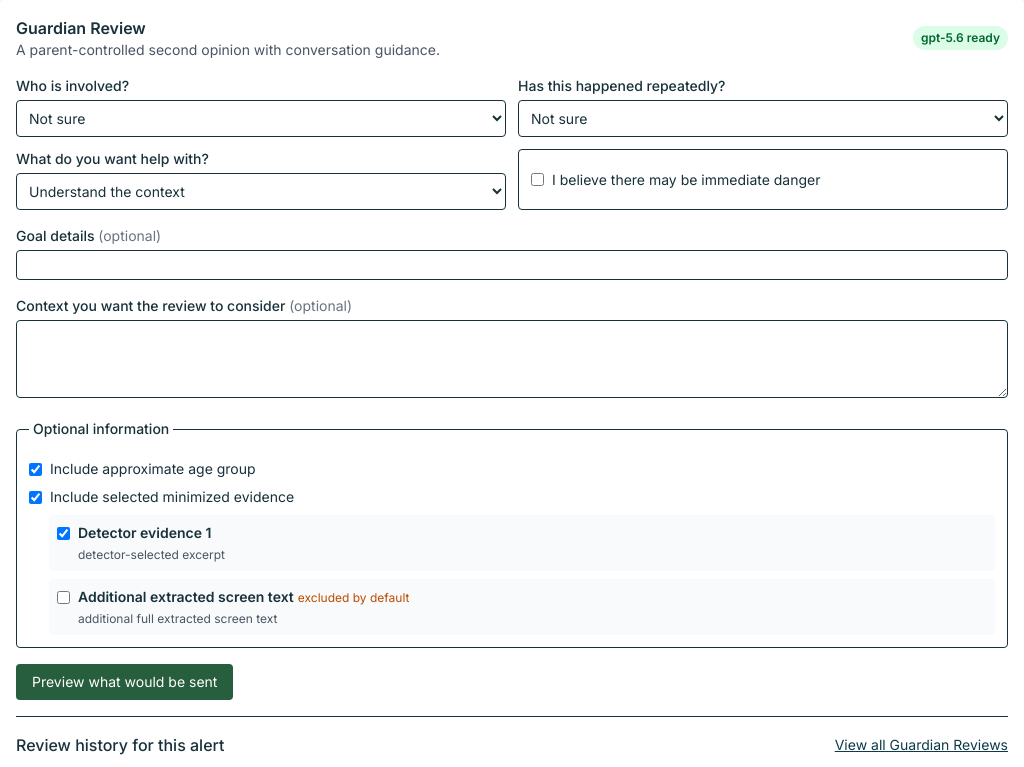
it: Guardian Review privacy flow › lets the parent remove optional fields before generating the exact preview
Expected: the text "gpt-5.6 ready" is shown, left=913, top=26, right=1008, bottom=50
Click the checkbox labelled "Include approximate age group" at point(36, 469), box left=29, top=462, right=42, bottom=476
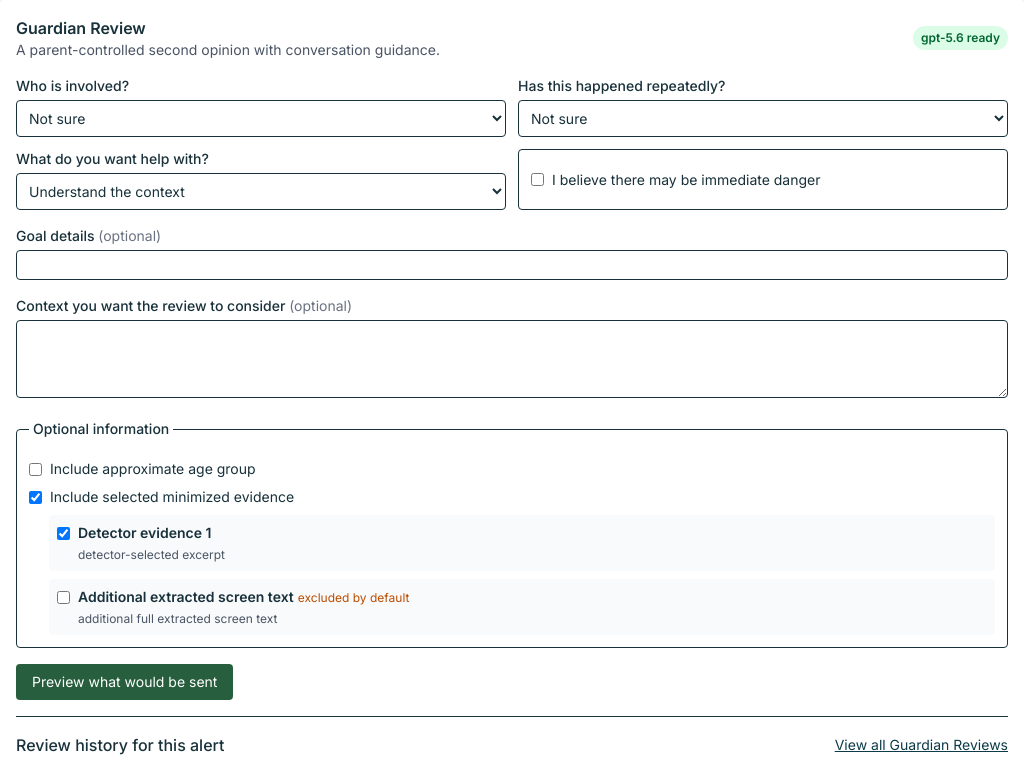
Click the checkbox labelled "Include selected minimized evidence" at point(36, 497), box left=29, top=490, right=42, bottom=504
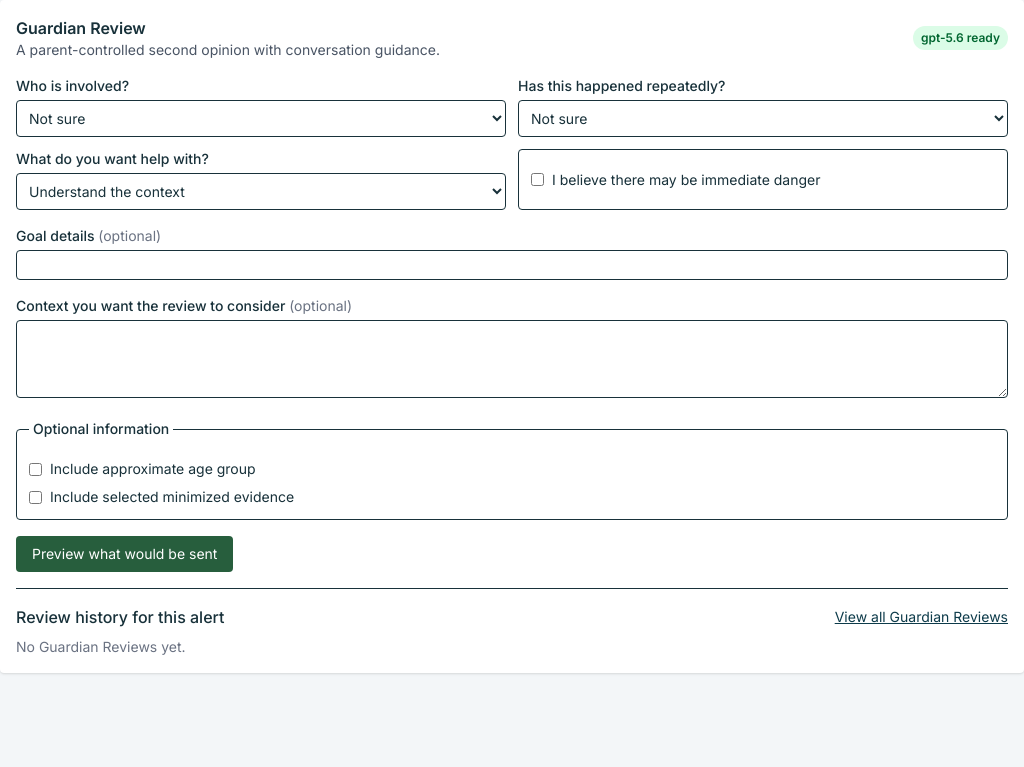
Click the button "Preview what would be sent" at point(125, 554), box left=16, top=536, right=233, bottom=572
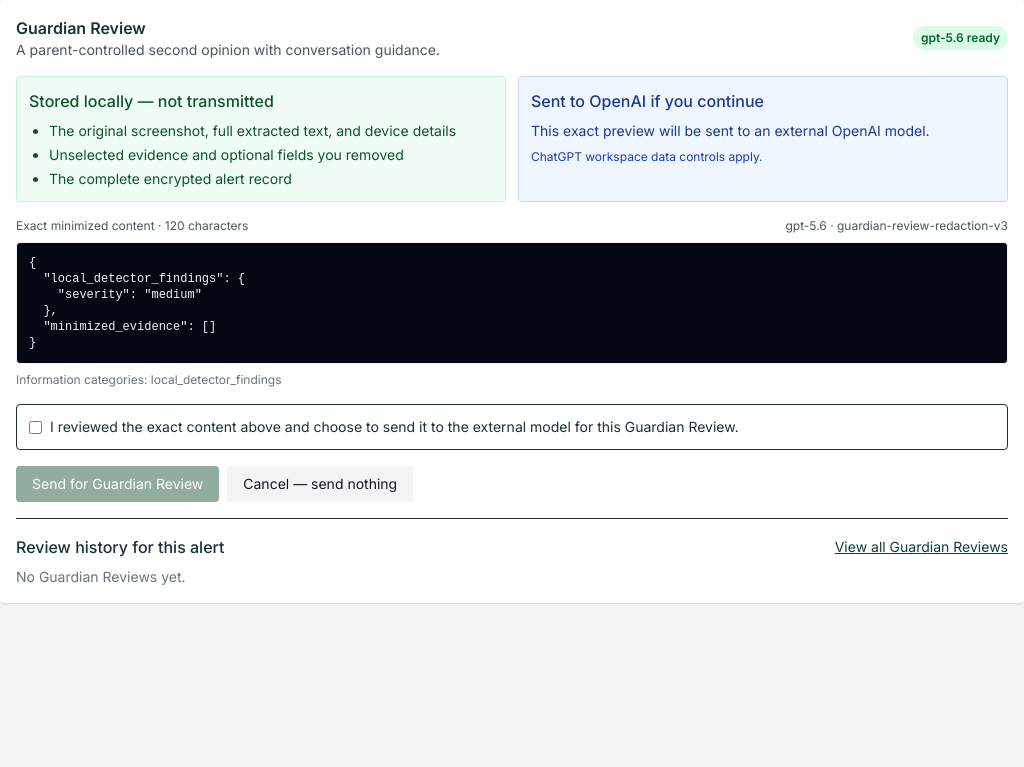
Expected: the text with test id "guardian-review-outbound" shows "local_detector_findings", left=29, top=256, right=245, bottom=350
Expected: the heading "Stored locally — not transmitted" is shown, left=29, top=91, right=274, bottom=111
Expected: the heading "Sent to OpenAI if you continue" is shown, left=531, top=91, right=764, bottom=111
